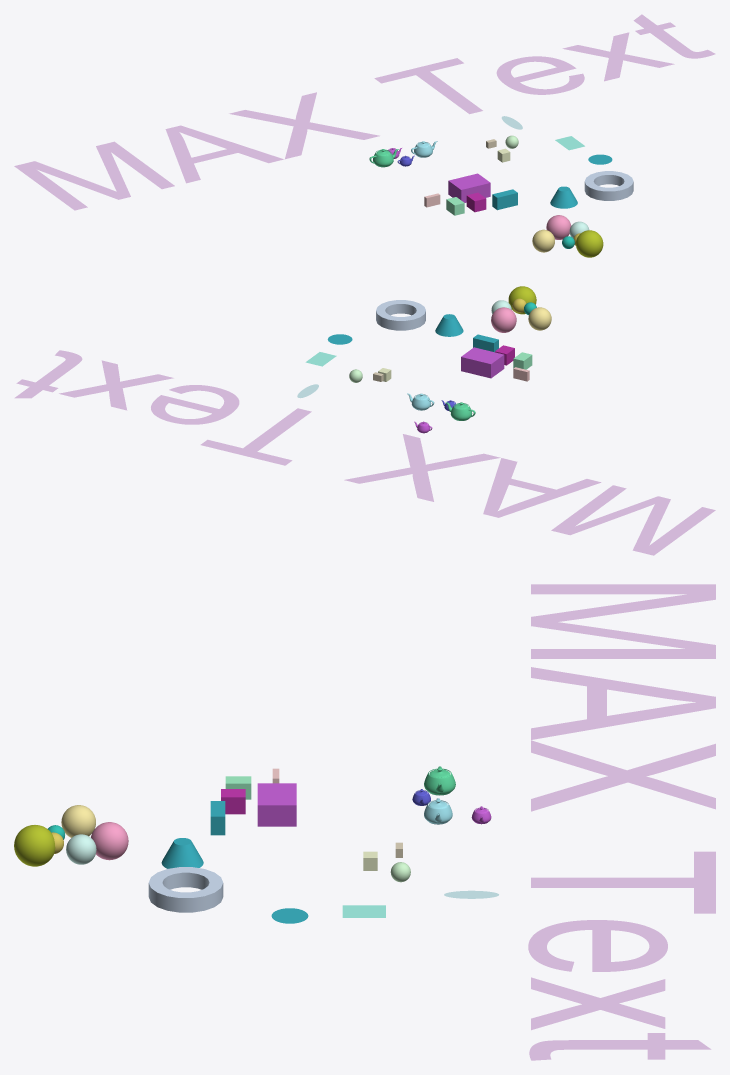
The model's file is sample_glb.glb.
3 renders of one model, top to bottom at view 1: azimuth 30°, elevation 25°; view 2: azimuth 150°, elevation 25°; view 3: azimuth 270°, elevation 25°, orthographic. The views are drawn at different scales.
Parts seen in each view (by area): view 1: Text001, Tube001, Box002, Sphere007, Sphere_parent, Cone001, Box003, Sphere006; view 2: Text001, Tube001, Box002, Sphere_parent, Cone001, Sphere006; view 3: Text001, Tube001, Box002, Sphere007, Sphere_parent, Cone001, Sphere006, Sphere003.
Part boxes in pixels (x1,y1,x2,y2): Text001: (14, 14, 715, 210); Tube001: (584, 171, 633, 200); Box002: (448, 173, 490, 202); Sphere007: (576, 230, 603, 257); Sphere_parent: (546, 215, 571, 239); Cone001: (550, 186, 577, 208); Box003: (492, 189, 517, 210); Sphere006: (532, 229, 554, 252); Text001: (14, 350, 715, 555); Tube001: (376, 300, 425, 330); Box002: (461, 347, 504, 378); Sphere_parent: (491, 307, 516, 332); Cone001: (435, 314, 463, 336); Sphere006: (528, 307, 551, 330); Text001: (528, 584, 715, 1060); Tube001: (148, 867, 223, 912); Box002: (257, 783, 296, 826); Sphere007: (14, 825, 55, 866); Sphere_parent: (91, 822, 128, 860); Cone001: (161, 838, 203, 868); Sphere006: (61, 805, 95, 837); Sphere003: (66, 834, 96, 864).
Size of the model in its own units: 391 by 15.99 by 243.
